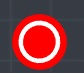Target: (11, 14, 68, 70)
